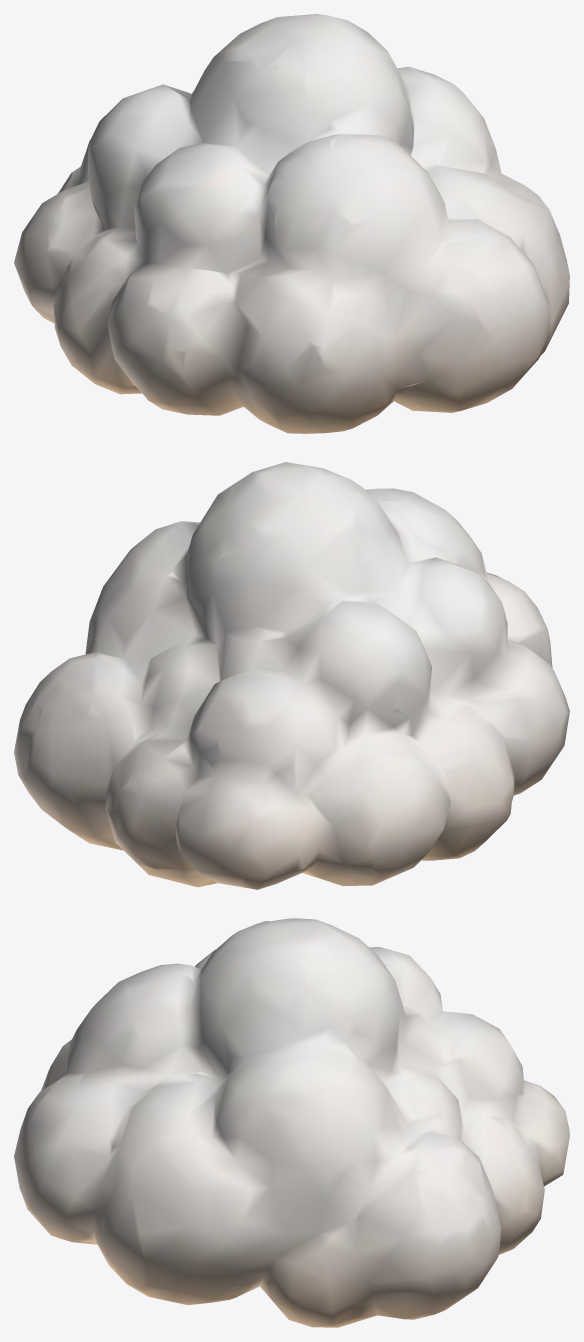
Rendered from cloud.glb.
3 renders of one model, top to bottom at view 1: azimuth 30°, elevation 25°; view 2: azimuth 150°, elevation 25°; view 3: azimuth 270°, elevation 25°, orthographic. The views are drawn at different scales.
Visible parts, largest first — view 1: tripo_node_e7d5d525-bf7c-4ebb-ba61-324dfb3f51fd; view 2: tripo_node_e7d5d525-bf7c-4ebb-ba61-324dfb3f51fd; view 3: tripo_node_e7d5d525-bf7c-4ebb-ba61-324dfb3f51fd.
Boxes of the visible parts, box(x1,y1,x2,y2) form: tripo_node_e7d5d525-bf7c-4ebb-ba61-324dfb3f51fd: box(14, 14, 569, 433); tripo_node_e7d5d525-bf7c-4ebb-ba61-324dfb3f51fd: box(14, 462, 569, 889); tripo_node_e7d5d525-bf7c-4ebb-ba61-324dfb3f51fd: box(14, 918, 569, 1327).
Bounding box in the file's own units: 0.8519 × 0.6629 × 1.
1 material, 1 textured.
